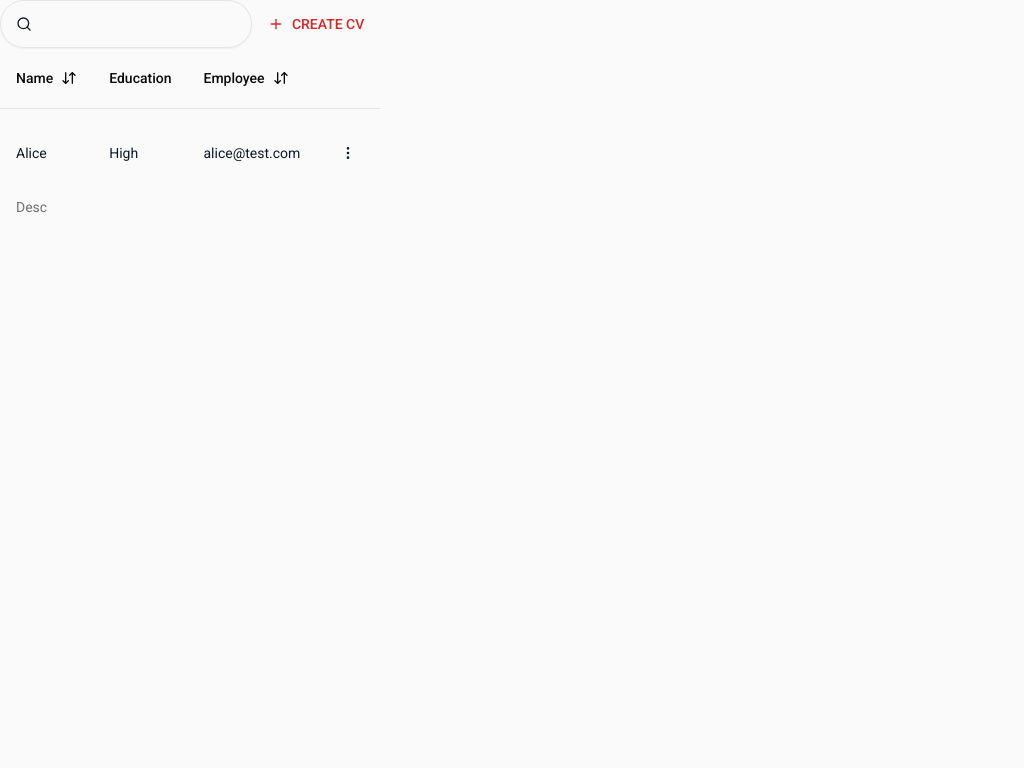
Test: CvsList › opens CreateCvDialog when CREATE CV is clicked
What coordinates should you click on to do the following:
click the button "CREATE CV"
I would click on:
 (316, 24)
Its box is 252,4 -> 380,44.
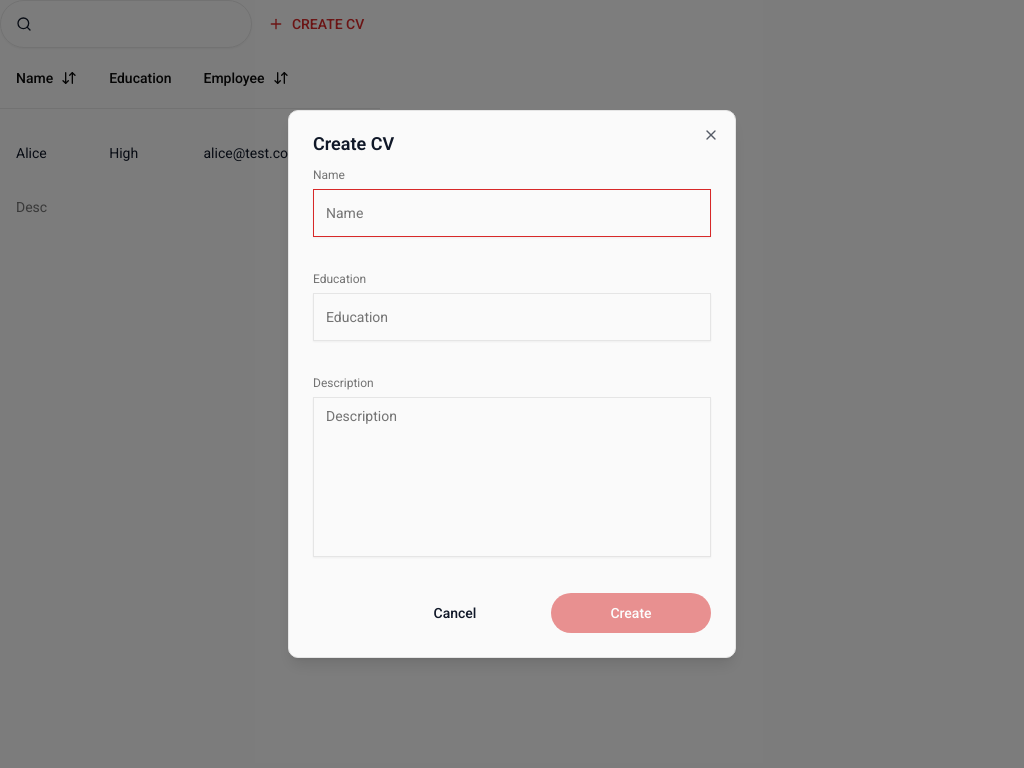
Result: the heading "Create CV" is shown at 313,133 -> 394,154
